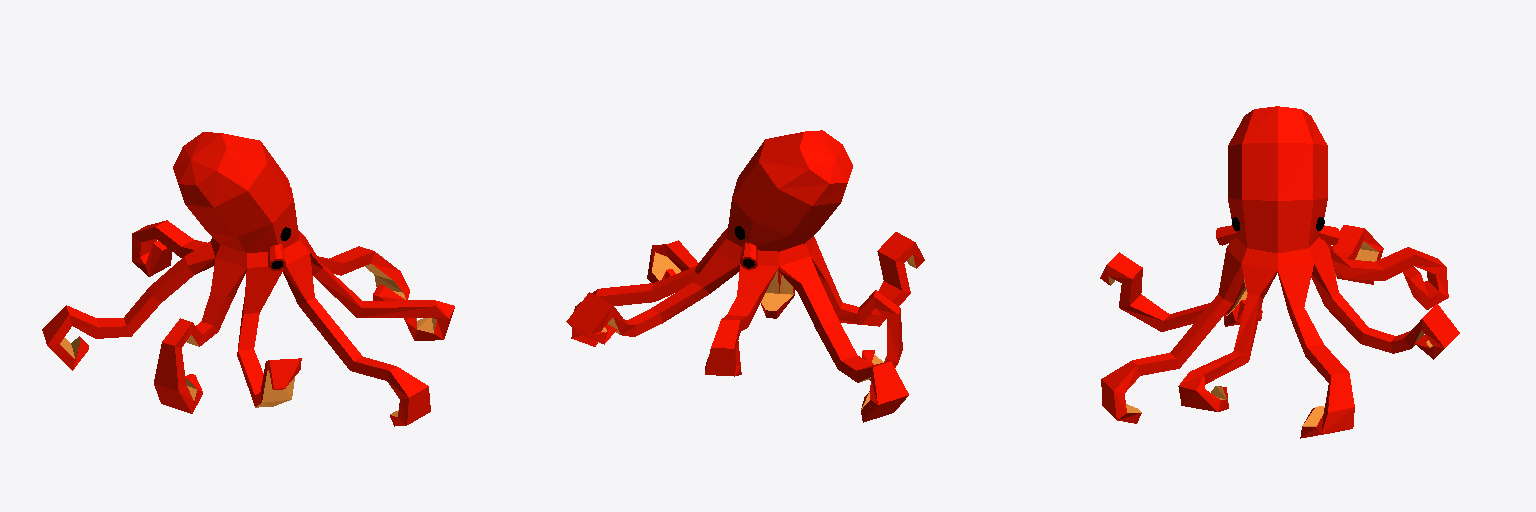
File: Octopus_01.obj
3 renders of one model, left to right at view 1: azimuth 30°, elevation 25°; view 2: azimuth 150°, elevation 25°; view 3: azimuth 270°, elevation 25°, orthographic.
Parts seen in each view (by area): view 1: Octopus_01_Circle.007; view 2: Octopus_01_Circle.007; view 3: Octopus_01_Circle.007.
Boxes of the visible parts, <box> form: Octopus_01_Circle.007: <box>42,132,454,426</box>; Octopus_01_Circle.007: <box>566,130,924,422</box>; Octopus_01_Circle.007: <box>1100,106,1459,438</box>.
Size of the model in its own units: 12.03 by 8.69 by 10.71.